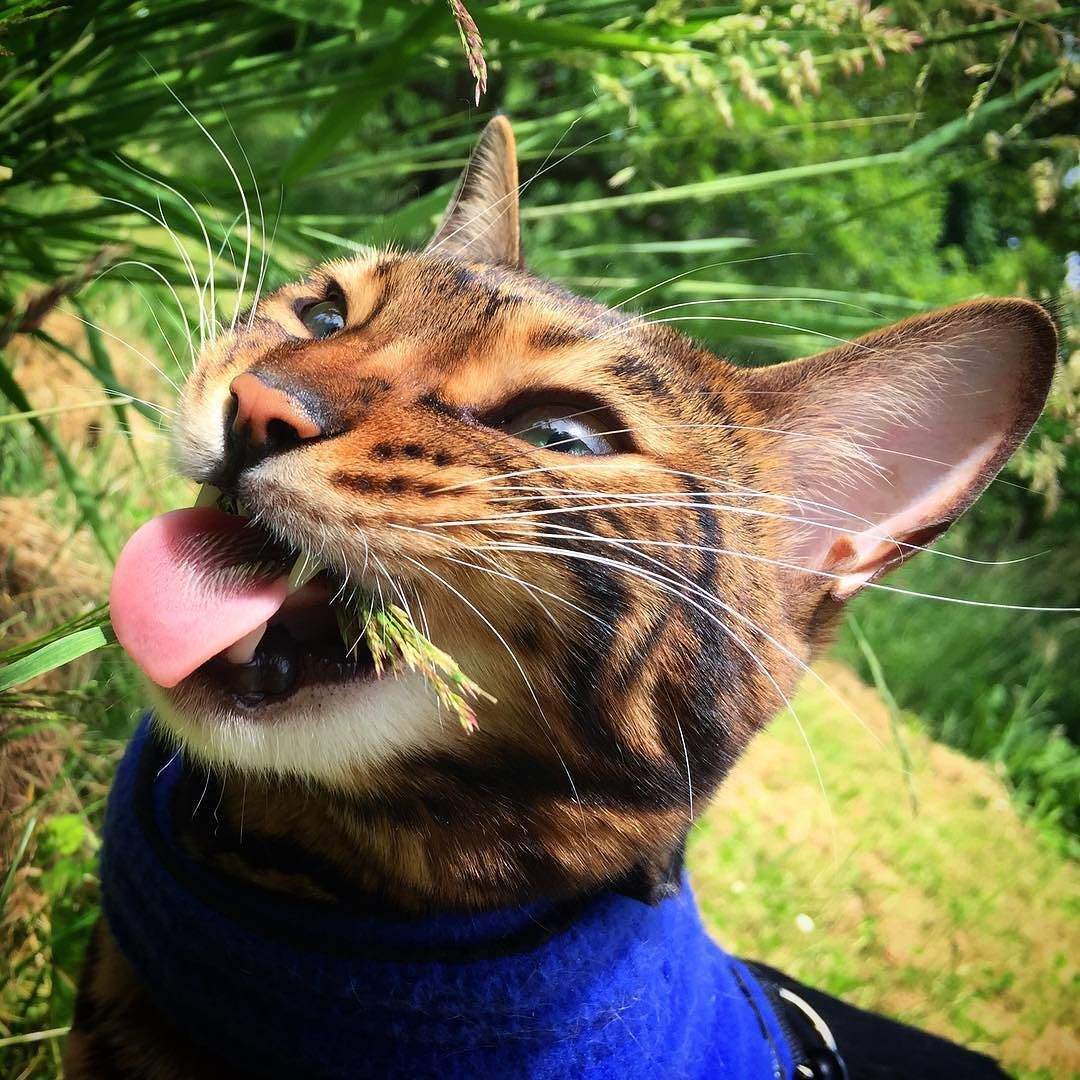Bengal: (124, 109, 1071, 918)
